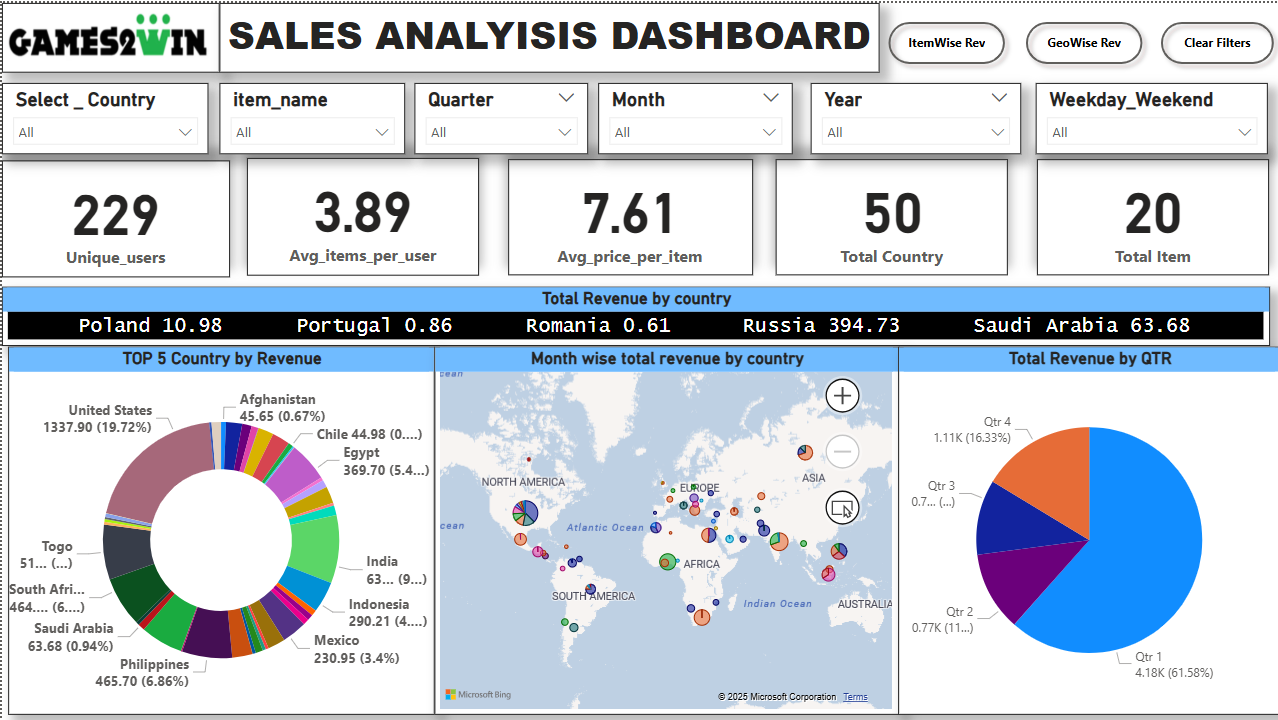

Layout of this report page (visuals, bound fields, positions):
{"tool":"powerbi","page":{"name":"Dashboard","canvas":[1280,720],"ordinal":0},"visuals":[{"type":"textbox","box":[10,0,21.3,96.7],"z":0},{"type":"image","box":[0,0,217.7,69.7],"z":1000},{"type":"textbox","box":[217.7,0,660.3,69.7],"z":2000},{"type":"card","fields":{"Values":["items_bought.Unique_users"]},"box":[0.5,157,228,116.9],"z":3000},{"type":"card","fields":{"Values":["items_bought.Avg_items_per_user"]},"box":[245.6,155.6,232.3,117.4],"z":4000},{"type":"card","fields":{"Values":["items_bought.Avg_price_per_item"]},"box":[506,156.8,244.6,116.2],"z":5000},{"type":"card","fields":{"Values":["Count(items_bought.country)"]},"box":[773.8,156.8,232.3,116.2],"z":6000},{"type":"card","fields":{"Values":["Count(items_bought.item_name)"]},"box":[1035.5,156.8,232.3,116.2],"z":7000},{"type":"slicer","fields":{"Values":["items_bought.country"]},"box":[0,79.5,206.7,70.9],"z":8000},{"type":"slicer","fields":{"Values":["items_bought.item_name"]},"box":[217.7,79.5,185.9,70.9],"z":9000},{"type":"slicer","fields":{"Values":["items_bought.dates.Variation.Date Hierarchy.Quarter"]},"box":[412.1,79.5,173.6,70.9],"z":10000},{"type":"slicer","fields":{"Values":["items_bought.dates.Variation.Date Hierarchy.Month"]},"box":[596.7,79.5,194.4,70.9],"z":11000},{"type":"slicer","fields":{"Values":["items_bought.dates.Variation.Date Hierarchy.Year"]},"box":[808.3,79.5,210.3,70.9],"z":12000},{"type":"slicer","fields":{"Values":["items_bought.Weekday_Weekend"]},"box":[1033.3,79.5,232.3,70.9],"z":13000},{"type":"ScrollingTextVisual1448795304508","fields":{"Category":["items_bought.item_name"],"Measure Absolute":["Sum(items_bought.iap_price)"]},"box":[0,278.5,1266.7,69.3],"z":14000},{"type":"donutChart","fields":{"Category":["items_bought.Weekday_Weekend"],"Y":["Sum(items_bought.iap_price)"]},"box":[0,358.3,446.3,351],"z":15000},{"type":"lineChart","fields":{"Category":["items_bought.dates.Variation.Date Hierarchy.Month"],"Y":["Sum(items_bought.iap_price)"]},"box":[446.3,359.5,457.3,349.7],"z":16000},{"type":"pieChart","title":"Top 5 item_name","fields":{"Category":["items_bought.item_name"],"Y":["Sum(items_bought.iap_price)"]},"box":[903.7,359.5,364.4,349.7],"z":17000},{"type":"actionButton","box":[1149.5,9.8,130.8,59.9],"z":18000},{"type":"actionButton","box":[878,9.8,134.5,59.9],"z":19000},{"type":"actionButton","box":[1015,9.8,134.5,59.9],"z":20000}]}

Visuals, with their boxes in screenshot pixels (x1, y1, x2, y2), scaled from the page's 1280x720 canvas onto the 1278x720 screenshot:
textbox: bbox(10, 0, 31, 97)
image: bbox(0, 0, 217, 70)
textbox: bbox(217, 0, 877, 70)
card - items_bought.Unique_users: bbox(0, 157, 228, 274)
card - items_bought.Avg_items_per_user: bbox(245, 156, 477, 273)
card - items_bought.Avg_price_per_item: bbox(505, 157, 749, 273)
card - Count(items_bought.country): bbox(773, 157, 1005, 273)
card - Count(items_bought.item_name): bbox(1034, 157, 1266, 273)
slicer - items_bought.country: bbox(0, 80, 206, 150)
slicer - items_bought.item_name: bbox(217, 80, 403, 150)
slicer - items_bought.dates.Variation.Date Hierarchy.Quarter: bbox(411, 80, 585, 150)
slicer - items_bought.dates.Variation.Date Hierarchy.Month: bbox(596, 80, 790, 150)
slicer - items_bought.dates.Variation.Date Hierarchy.Year: bbox(807, 80, 1017, 150)
slicer - items_bought.Weekday_Weekend: bbox(1032, 80, 1264, 150)
ScrollingTextVisual1448795304508 - items_bought.item_name x Sum(items_bought.iap_price): bbox(0, 278, 1265, 348)
donutChart - items_bought.Weekday_Weekend x Sum(items_bought.iap_price): bbox(0, 358, 446, 709)
lineChart - items_bought.dates.Variation.Date Hierarchy.Month x Sum(items_bought.iap_price): bbox(446, 360, 902, 709)
"Top 5 item_name" pieChart: bbox(902, 360, 1266, 709)
actionButton: bbox(1148, 10, 1277, 70)
actionButton: bbox(877, 10, 1011, 70)
actionButton: bbox(1013, 10, 1148, 70)
